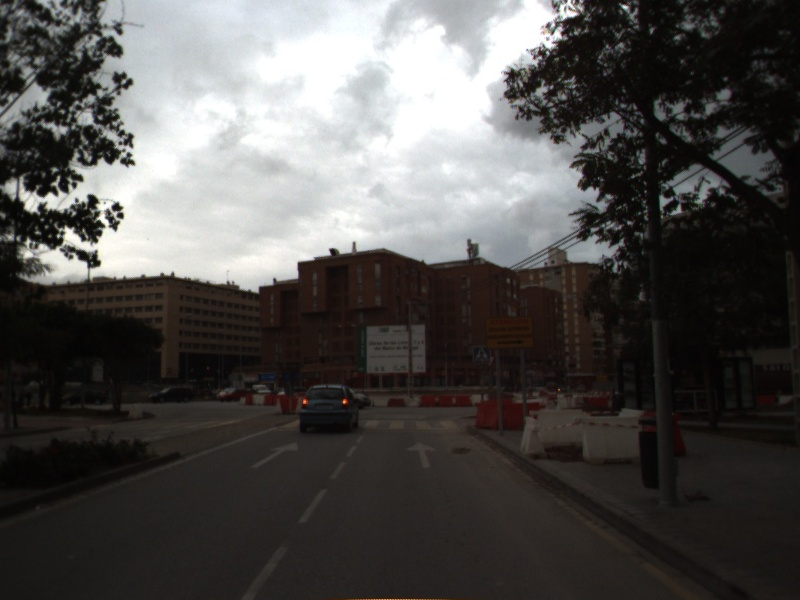STRAIGHT: (248, 439, 301, 471), (405, 440, 439, 470)
